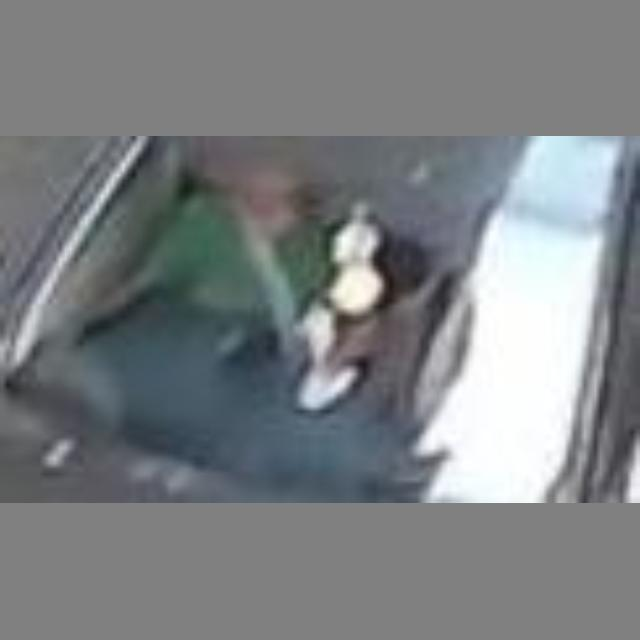pakai: (131, 178, 341, 377)
